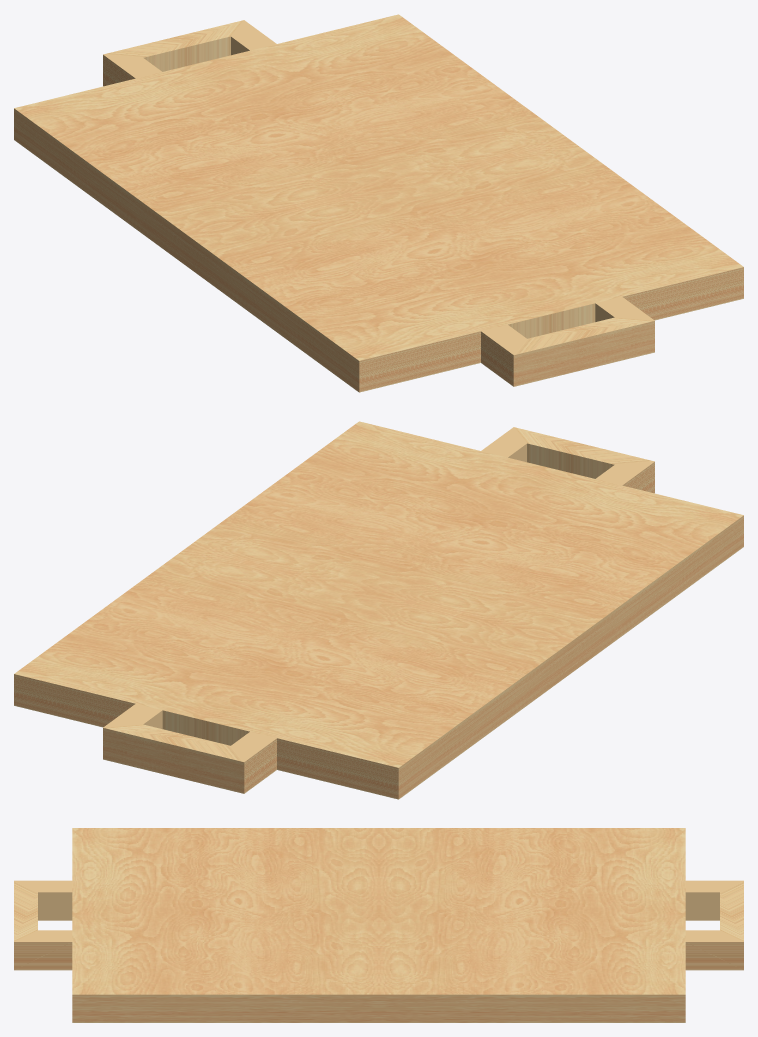
Rendered from chopping board.fbx.
3 renders of one model, top to bottom at view 1: azimuth 30°, elevation 25°; view 2: azimuth 150°, elevation 25°; view 3: azimuth 270°, elevation 25°, orthographic. The views are drawn at different scales.
Visible parts, largest first — view 1: chopping board; view 2: chopping board; view 3: chopping board.
Boxes of the visible parts, left/top/right/bottom form: chopping board: left=14, top=14, right=743, bottom=392; chopping board: left=14, top=421, right=743, bottom=799; chopping board: left=14, top=828, right=743, bottom=1022.
Bounding box in the file's own units: 9.42 × 0.7419 × 17.43.
1 material, 1 textured.
